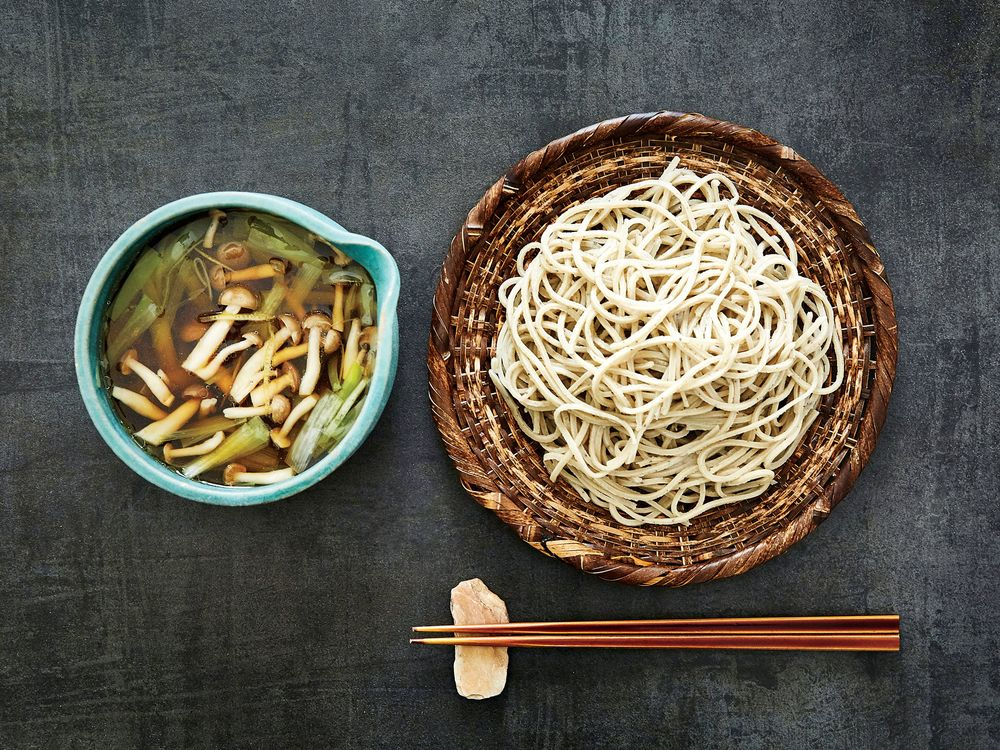Soba: (499, 154, 842, 544)
